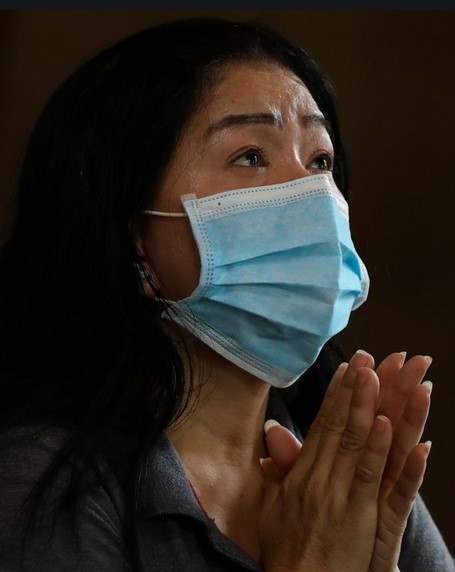face_with_mask: (113, 50, 374, 396)
